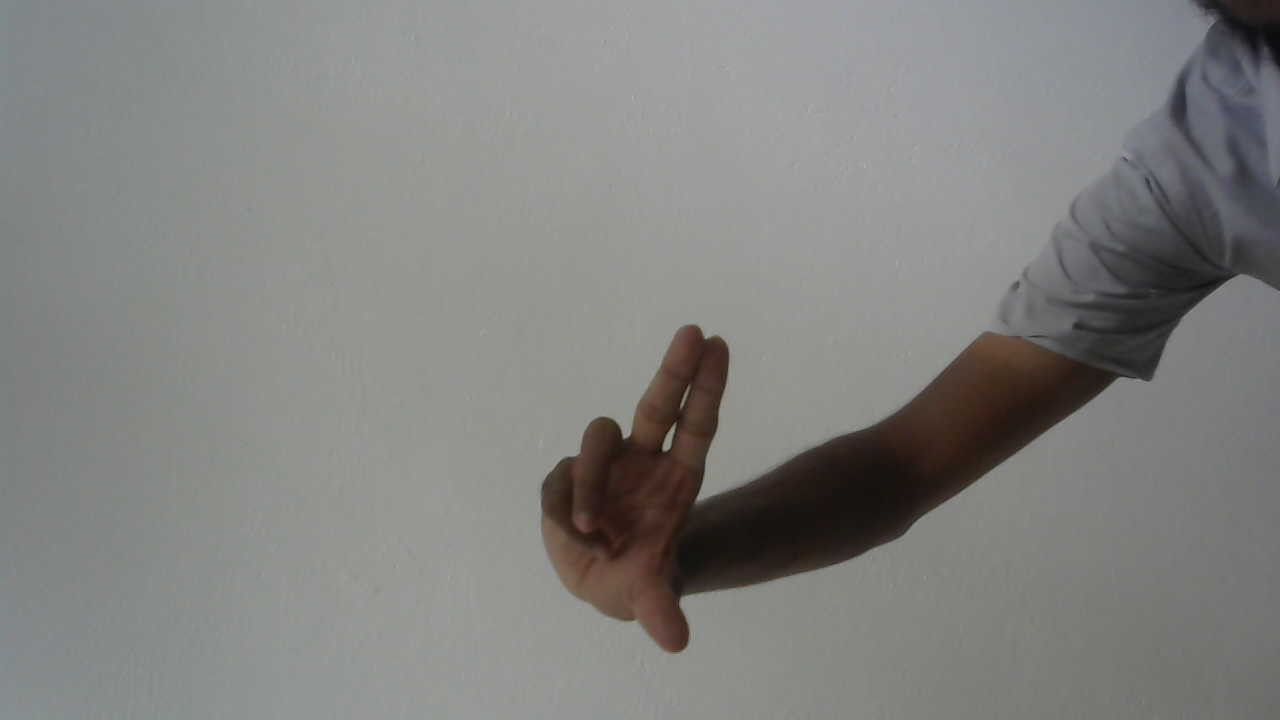no: (529, 317, 755, 670)
